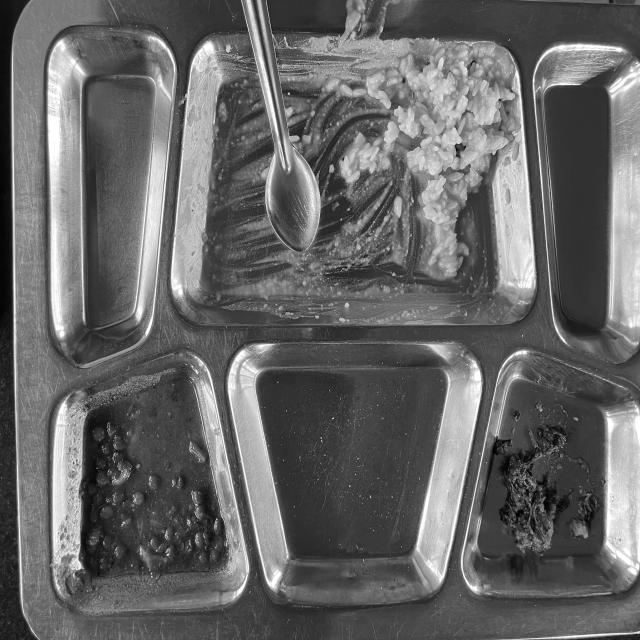20-Food-Left: (28, 18, 622, 612)
